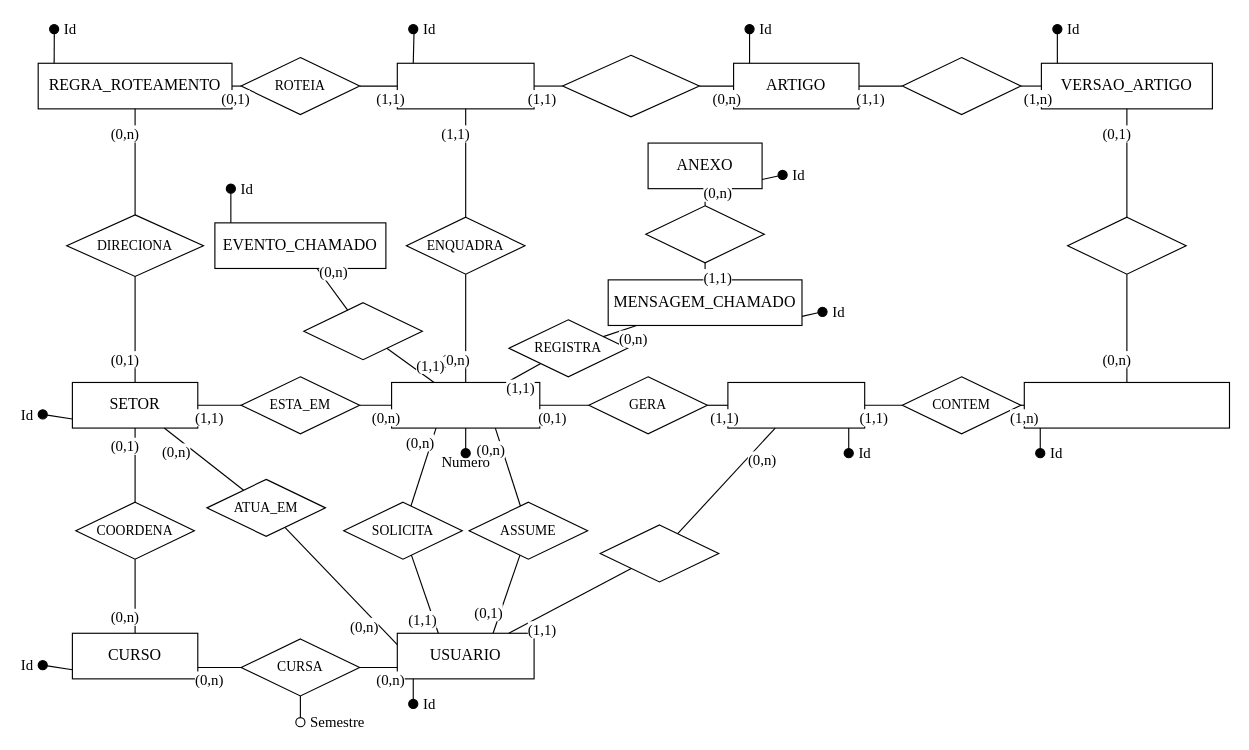
Some shapes in this 1249 by 750 pixel diagram are drawn without their labels. The shapes that lost their labels are listed below. From the top down, each one's centre as x and y in pixels, then its label:
the point at 465,85: CATEGORIA
the point at 630,85: CLASSIFICA
the point at 961,85: VERSIONA
the point at 704,234: ANEXA
the point at 1126,245: EXIBE
the point at 362,331: HISTORIA
the point at 465,404: CHAMADO
the point at 796,404: CONVERSA
the point at 1126,404: MENSAGEM_CONVERSA
the point at 659,553: INICIA
